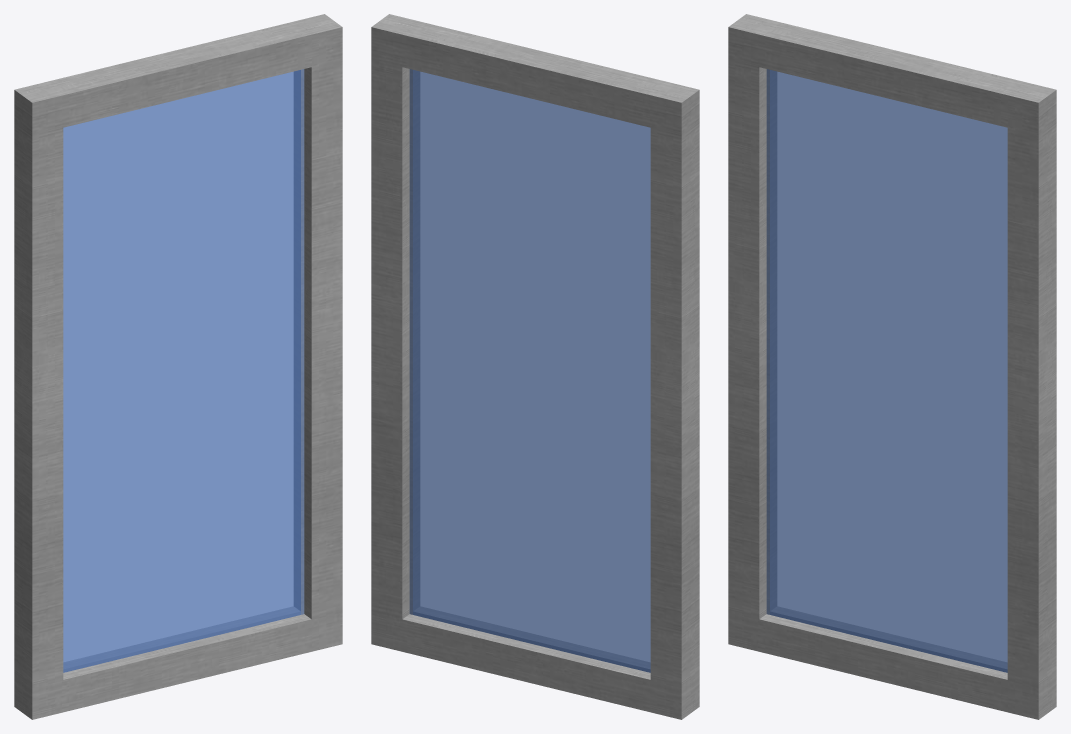
Rendered from GlassDoorMain.dae.
3 renders of one model, left to right at view 1: azimuth 30°, elevation 25°; view 2: azimuth 150°, elevation 25°; view 3: azimuth 330°, elevation 25°, orthographic.
Parts seen in each view (by area): view 1: SketchUp (×5); view 2: SketchUp (×5); view 3: SketchUp (×5).
Boxes of the visible parts, bbox=[...] form: SketchUp (×5): bbox=[14, 14, 342, 719]; SketchUp (×5): bbox=[371, 14, 699, 719]; SketchUp (×5): bbox=[728, 14, 1056, 719].
Size of the model in its own units: 39.37 by 3.94 by 74.8.
